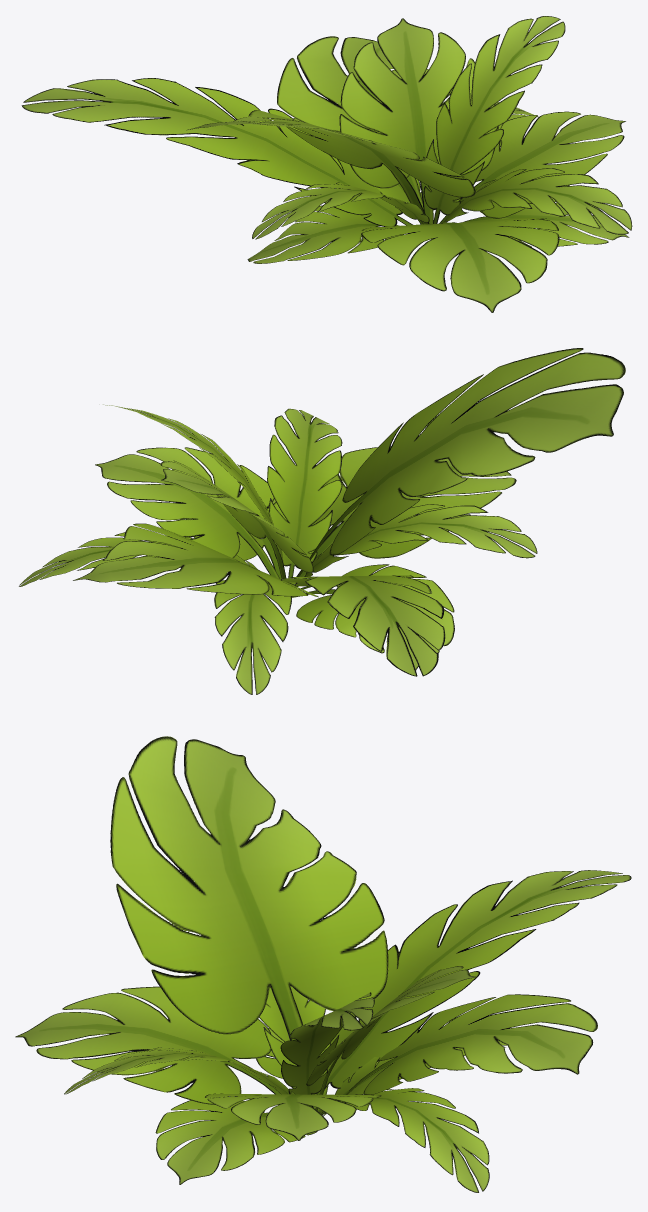
Rendered from Moonset_FBX_foliage_mid_03.fbx.
3 views of the same model, one above another, from view 1: azimuth 30°, elevation 25°; view 2: azimuth 150°, elevation 25°; view 3: azimuth 270°, elevation 25° (orthographic). The views are drawn at different scales.
Parts seen in each view (by area): view 1: Foliage_mid_03; view 2: Foliage_mid_03; view 3: Foliage_mid_03.
Boxes of the visible parts, x1,y1,x2,y2 form: Foliage_mid_03: [21, 16, 632, 312]; Foliage_mid_03: [19, 348, 625, 694]; Foliage_mid_03: [15, 736, 631, 1192].
Bounding box in the file's own units: 1.59 × 0.7812 × 1.66.
